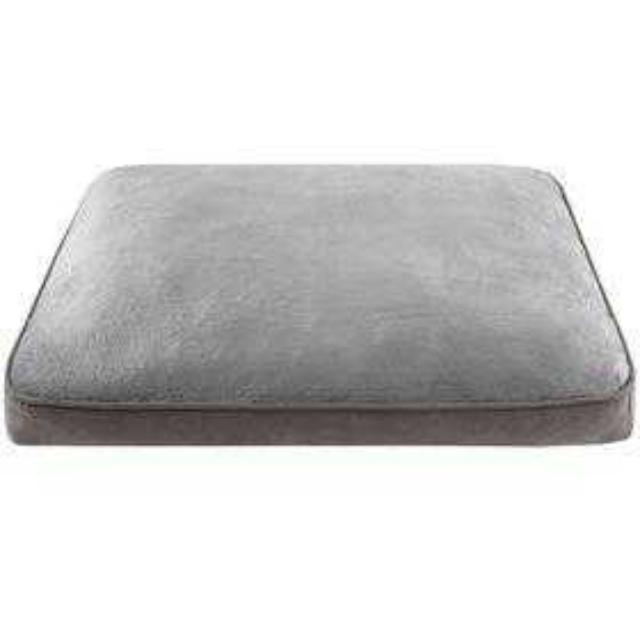pillow: (2, 160, 636, 448)
